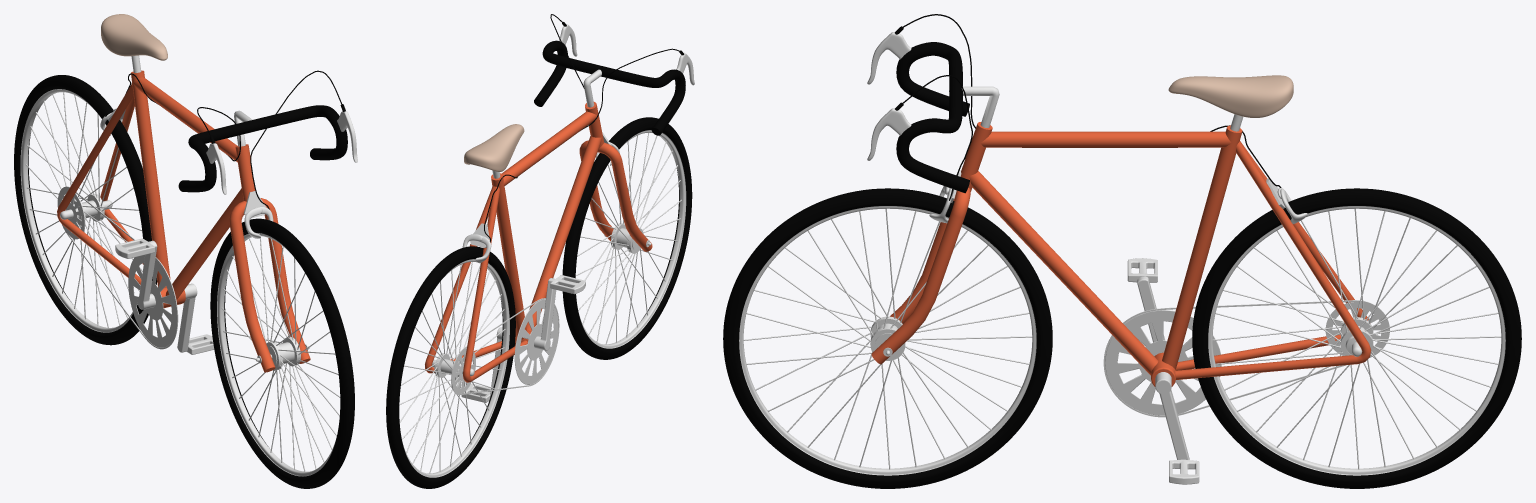
File: bicycle.glb
3 views of the same model, side by side, from view 1: azimuth 30°, elevation 25°; view 2: azimuth 150°, elevation 25°; view 3: azimuth 270°, elevation 25° (orthographic). The views are drawn at different scales.
Visible parts, largest first — view 1: Circle_1, Circle.002_3, Vert.001_24, Bicycle_29, Circle.007_8, Vert.003_26, Circle.008_9, Circle.004_5, Plane_18, Cylinder.004_14, Cylinder.003_13, Plane.001_19 (+4 smaller); view 2: Circle.002_3, Circle_1, Bicycle_29, Vert.001_24, Circle.007_8, Circle.008_9, Vert.003_26, Circle.004_5, Plane_18, Cylinder.004_14, Cylinder.003_13, Plane.001_19 (+5 smaller); view 3: Circle_1, Circle.002_3, Bicycle_29, Vert.001_24, Circle.008_9, Circle.007_8, Vert.003_26, Circle.004_5, Plane_18, Cylinder.003_13, Plane.001_19, Circle.005_6 (+3 smaller).
Part boxes in pixels (<box>): Circle_1: <box>210,218,354,488</box>; Circle.002_3: <box>14,75,157,345</box>; Vert.001_24: <box>57,83,310,372</box>; Bicycle_29: <box>131,70,255,300</box>; Circle.007_8: <box>221,238,340,471</box>; Vert.003_26: <box>178,105,347,192</box>; Circle.008_9: <box>25,92,142,328</box>; Circle.004_5: <box>128,255,176,347</box>; Plane_18: <box>101,14,167,60</box>; Cylinder.004_14: <box>115,238,157,309</box>; Cylinder.003_13: <box>177,283,214,354</box>; Plane.001_19: <box>206,111,357,194</box>; Circle.002_3: <box>386,246,515,488</box>; Circle_1: <box>562,117,692,359</box>; Bicycle_29: <box>491,102,603,339</box>; Vert.001_24: <box>425,140,652,382</box>; Circle.007_8: <box>575,133,681,344</box>; Circle.008_9: <box>399,262,505,473</box>; Vert.003_26: <box>534,40,685,135</box>; Circle.004_5: <box>514,299,558,384</box>; Plane_18: <box>464,124,524,171</box>; Cylinder.004_14: <box>534,275,585,350</box>; Cylinder.003_13: <box>461,327,502,402</box>; Plane.001_19: <box>559,24,694,85</box>; Circle_1: <box>723,188,1052,488</box>; Circle.002_3: <box>1192,188,1521,488</box>; Bicycle_29: <box>960,122,1242,375</box>; Vert.001_24: <box>871,141,1371,379</box>; Circle.008_9: <box>1212,208,1501,469</box>; Circle.007_8: <box>743,208,1032,469</box>; Vert.003_26: <box>896,42,969,193</box>; Circle.004_5: <box>1105,310,1221,415</box>; Plane_18: <box>1168,75,1293,117</box>; Cylinder.003_13: <box>1155,372,1199,484</box>; Plane.001_19: <box>867,32,911,160</box>; Circle.005_6: <box>1103,300,1389,417</box>.
Bounding box in the file's own units: 1.31 × 3.31 × 5.35.
